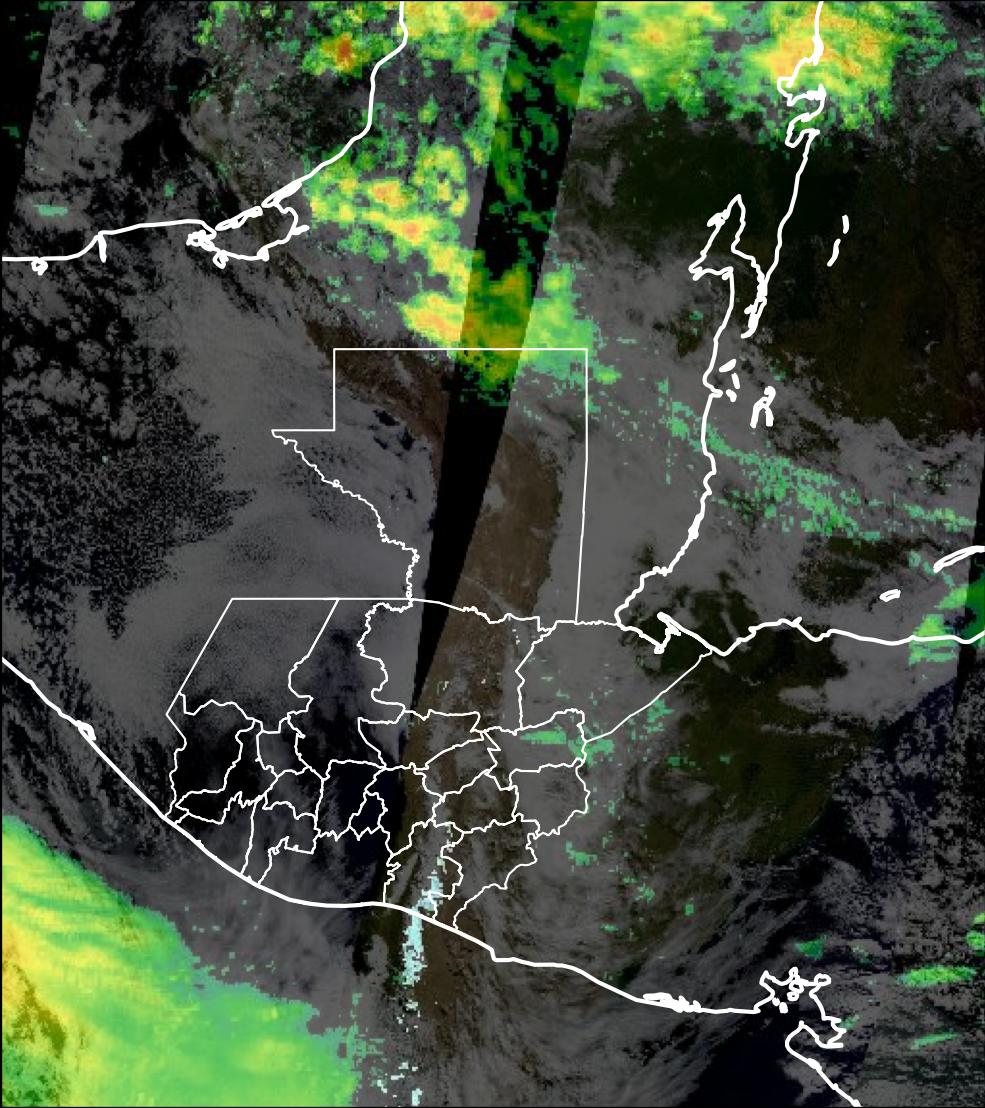precipitacion: (382, 210, 440, 249), (453, 1, 508, 28)
